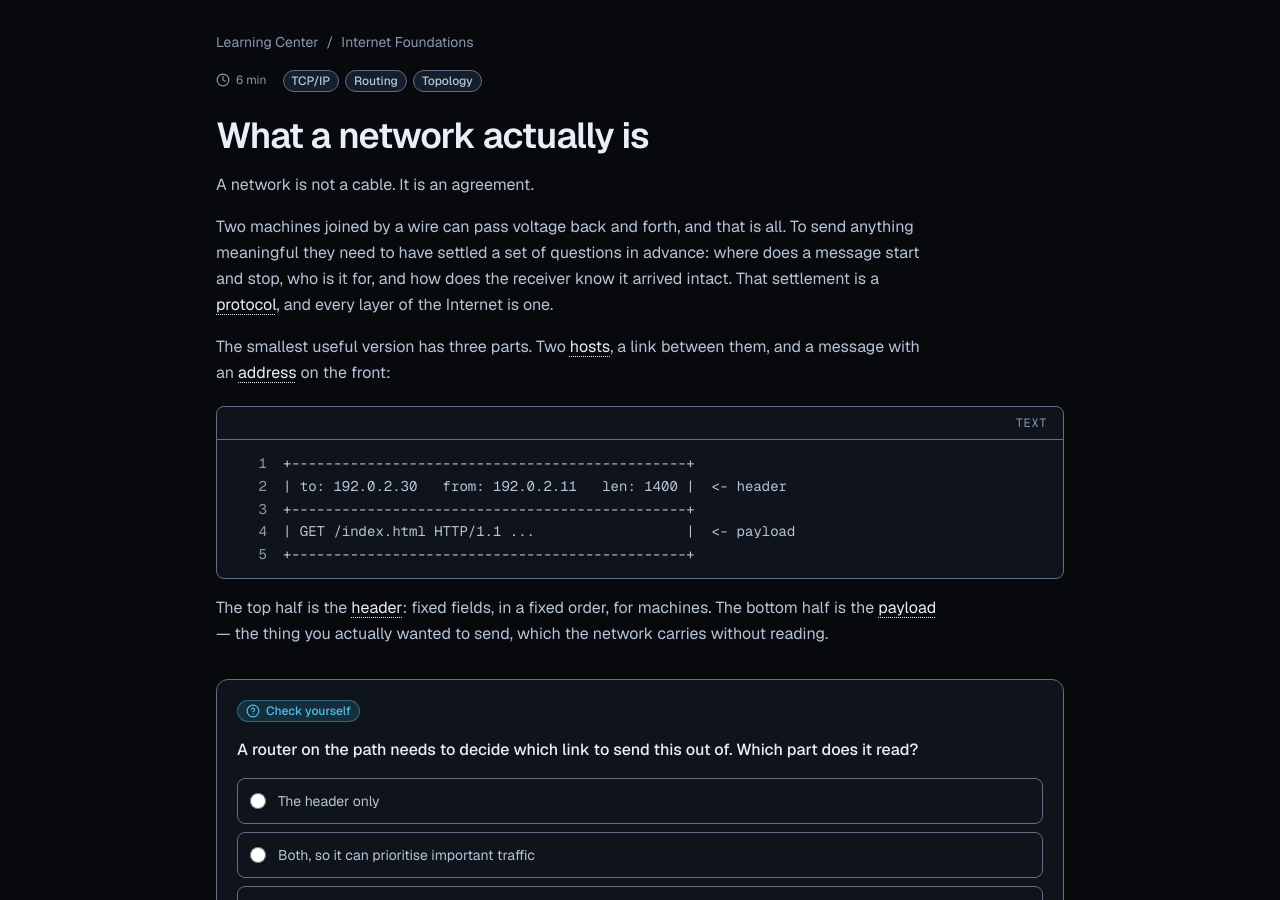
it: a lesson, as the route renders it › resolves the lesson vocabulary with no import in the MDX file
What coordinates should you click on to do the following:
click the button "protocol"
I would click on:
 (246, 305)
Its box is 216,292 -> 276,318.
(page scrolled)
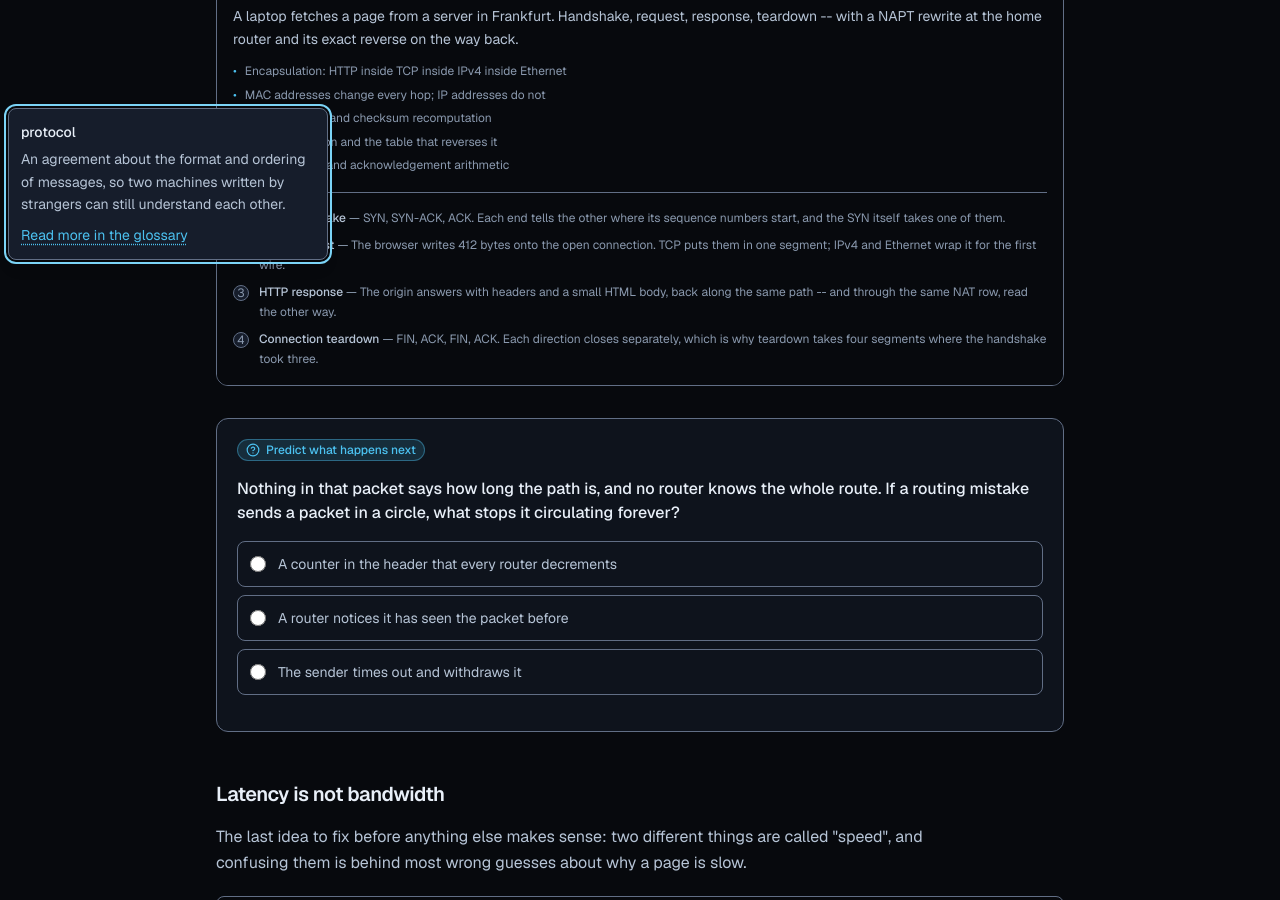
expect the text "Predict what happens next" is shown: met, box 237,439 -> 425,461
expect the dialog "protocol" shows "An agreement about": met, box 21,150 -> 306,213
